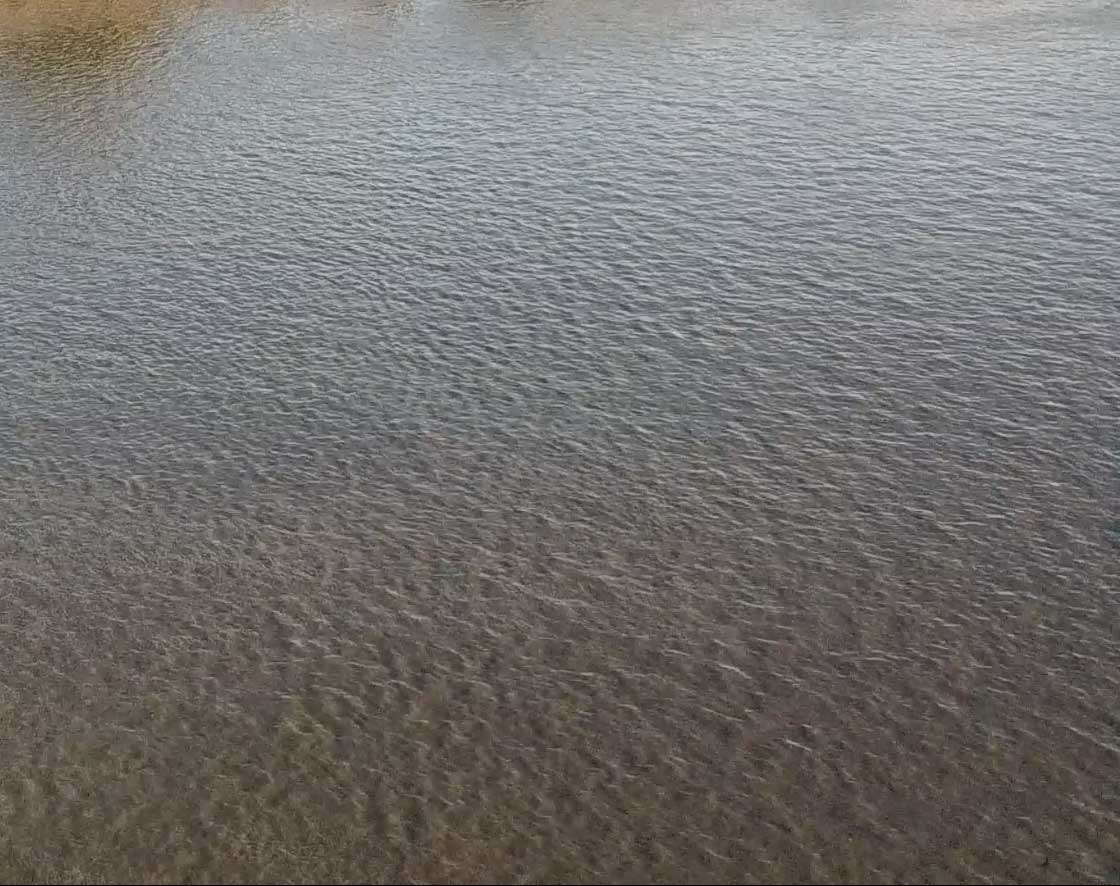water: (49, 78, 1008, 783)
